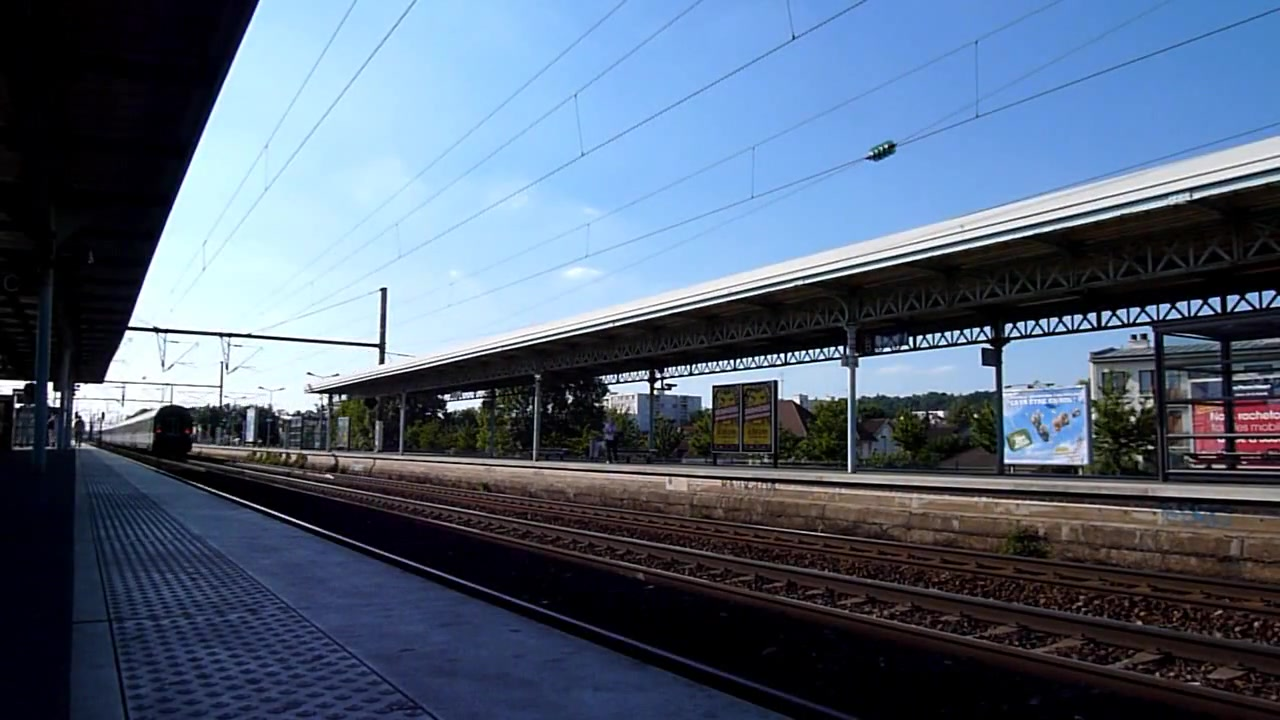train: (88, 403, 198, 466)
